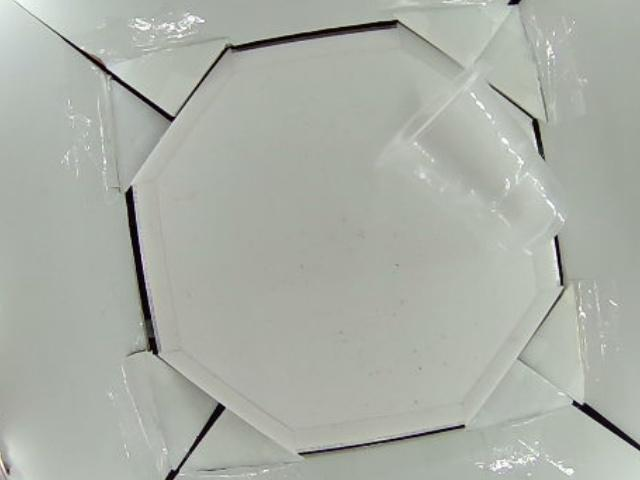Cup: (377, 61, 573, 255)
